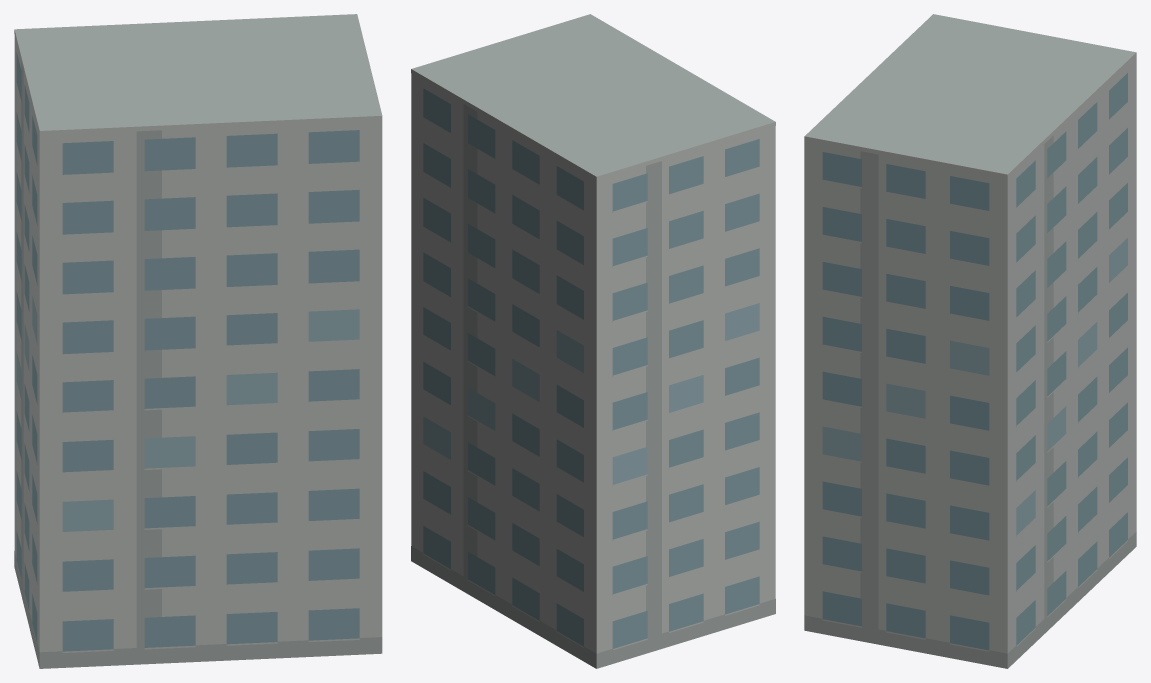
The model's file is residential-93d27b12-4cce-4af5-8b72-f7c968239fa5.glb.
The picture shows the model from 3 angles, left to right: view 1: azimuth 30°, elevation 25°; view 2: azimuth 150°, elevation 25°; view 3: azimuth 270°, elevation 25°; orthographic projection. The views are drawn at different scales.
Parts seen in each view (by area): view 1: residential-93d27b12-4cce-4af5-8b72-f7c968239fa5.tmp; view 2: residential-93d27b12-4cce-4af5-8b72-f7c968239fa5.tmp; view 3: residential-93d27b12-4cce-4af5-8b72-f7c968239fa5.tmp.
Part boxes in pixels (x1=…): residential-93d27b12-4cce-4af5-8b72-f7c968239fa5.tmp: x1=14, y1=14, x2=382, y2=668; residential-93d27b12-4cce-4af5-8b72-f7c968239fa5.tmp: x1=411, y1=14, x2=775, y2=668; residential-93d27b12-4cce-4af5-8b72-f7c968239fa5.tmp: x1=804, y1=14, x2=1136, y2=668.
Bounding box in the file's own units: 19.51 × 28 × 17.05.
